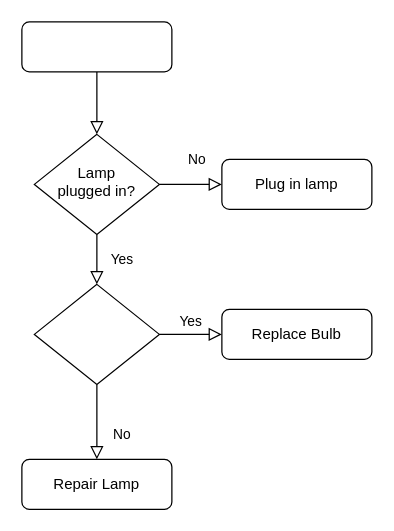
Image size: 394x531. Some labels were removed from this diagram. The centre of each missing label's shape, as x and y in pixels:
"Bulb burned out?" belongs at point (96, 333).
"Lang = 1 or 2" belongs at point (96, 46).
